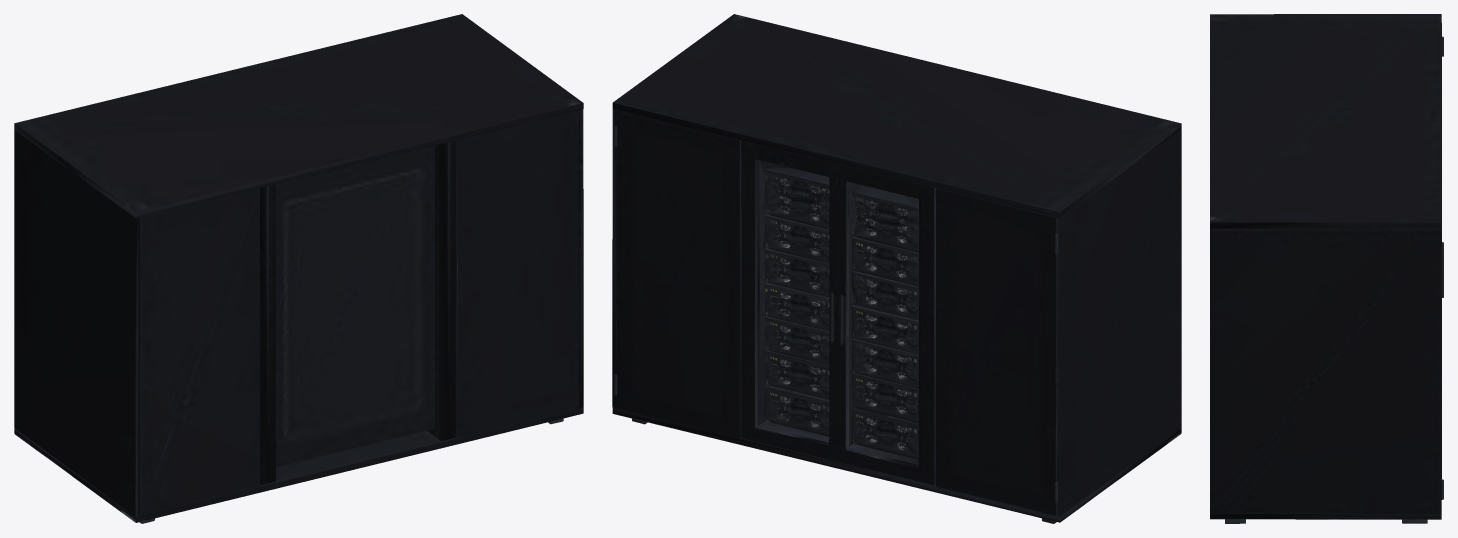
File: office-server-cabinet.glb
3 views of the same model, side by side, from view 1: azimuth 30°, elevation 25°; view 2: azimuth 150°, elevation 25°; view 3: azimuth 270°, elevation 25° (orthographic). The views are drawn at different scales.
Parts seen in each view (by area): view 1: server-cabinet; view 2: server-cabinet; view 3: server-cabinet.
Boxes of the visible parts, x1=… form: server-cabinet: x1=14, y1=14, x2=583, y2=523; server-cabinet: x1=612, y1=14, x2=1181, y2=523; server-cabinet: x1=1210, y1=14, x2=1443, y2=523.
Size of the model in its own units: 2.92 by 2 by 1.38.
Materials: 1 (1 with a texture image).
